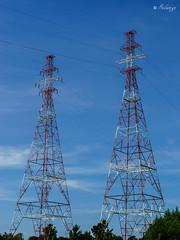power_tower: (103, 27, 166, 239), (15, 52, 75, 237)
